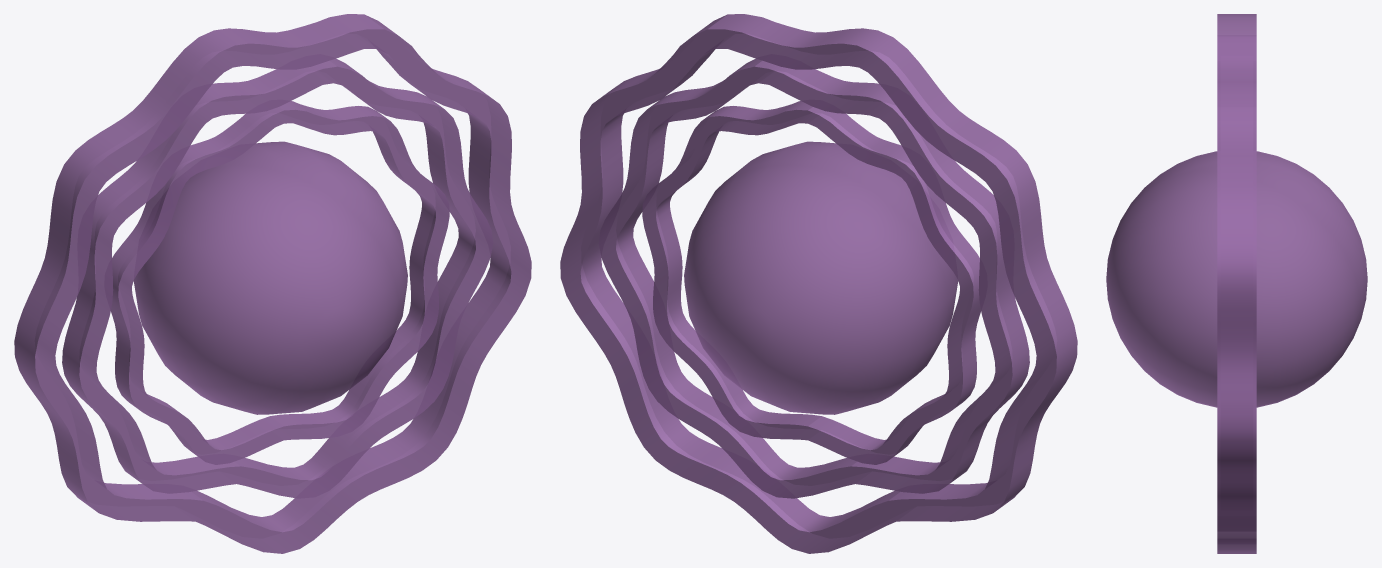
The model's file is powerup_shockwave.fbx.
3 renders of one model, left to right at view 1: azimuth 30°, elevation 25°; view 2: azimuth 150°, elevation 25°; view 3: azimuth 270°, elevation 25°, orthographic. The views are drawn at different scales.
Parts seen in each view (by area): view 1: powerup_shockwave; view 2: powerup_shockwave; view 3: powerup_shockwave.
Boxes of the visible parts, x1,y1,x2,y2 form: powerup_shockwave: (14,14,531,553); powerup_shockwave: (560,14,1077,553); powerup_shockwave: (1106,14,1367,553).
Size of the model in its own units: 7.96 by 7.97 by 3.81.
